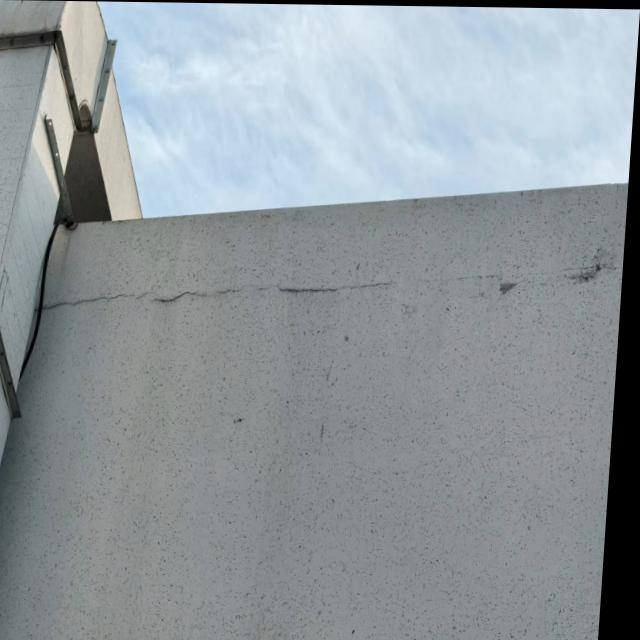crack: (46, 260, 609, 311)
